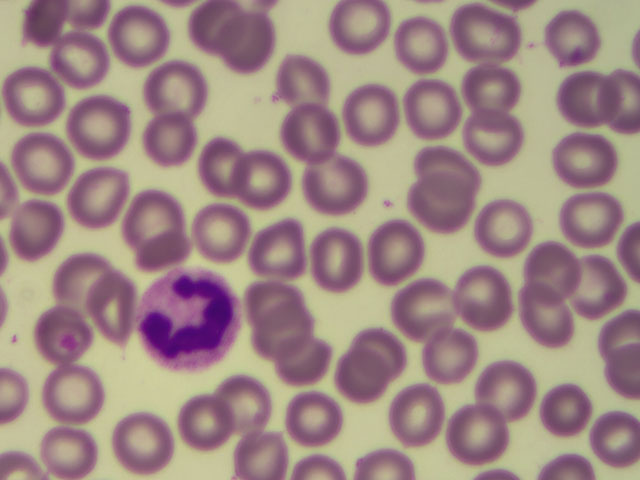RBC: (41, 417, 105, 480), (49, 29, 113, 91), (8, 65, 72, 127), (71, 95, 135, 157), (143, 53, 207, 115), (110, 12, 174, 74), (196, 132, 260, 194), (143, 106, 207, 168), (69, 168, 133, 230), (19, 132, 83, 194), (5, 198, 69, 260), (51, 249, 115, 311), (78, 271, 142, 333), (32, 304, 96, 366), (43, 357, 107, 419), (109, 412, 173, 474), (171, 398, 235, 460), (213, 370, 277, 432), (272, 325, 336, 387), (250, 292, 314, 354), (242, 258, 306, 320), (256, 216, 320, 278), (191, 195, 255, 257), (233, 148, 297, 210), (122, 187, 186, 249), (300, 153, 364, 215), (272, 99, 336, 161), (271, 61, 335, 123), (217, 15, 281, 77), (188, 6, 252, 68), (344, 83, 408, 145), (401, 76, 465, 138), (454, 49, 518, 111), (463, 106, 527, 168), (550, 128, 614, 190), (568, 186, 632, 248), (566, 251, 630, 313), (521, 234, 585, 296), (521, 293, 585, 355), (535, 375, 599, 437), (575, 411, 639, 473), (480, 354, 544, 416), (443, 404, 507, 466), (385, 382, 449, 444), (319, 347, 383, 409), (272, 386, 336, 448), (346, 321, 410, 383), (388, 274, 452, 336), (450, 263, 514, 325), (418, 318, 482, 380), (471, 187, 535, 249), (414, 177, 478, 239), (415, 150, 479, 212), (375, 217, 439, 279), (308, 225, 372, 287), (328, 1, 392, 63), (392, 10, 456, 72), (543, 5, 607, 67), (549, 65, 613, 127), (449, 1, 513, 62), (602, 308, 640, 392)
WBC: (138, 267, 248, 372)
